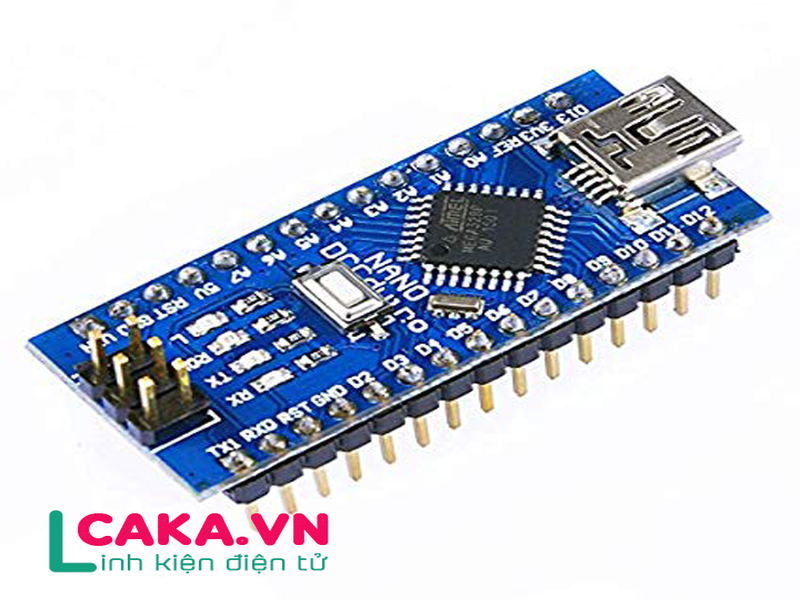Arduino_Nano: (24, 62, 766, 537)
